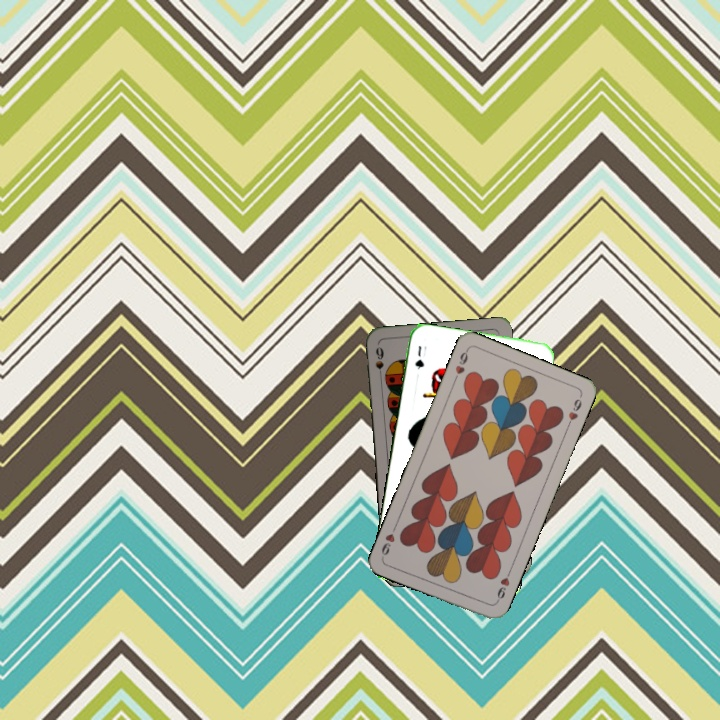GU: (411, 342, 426, 371)
H9: (449, 346, 471, 385), (492, 567, 514, 605)
S9: (371, 343, 386, 382)
